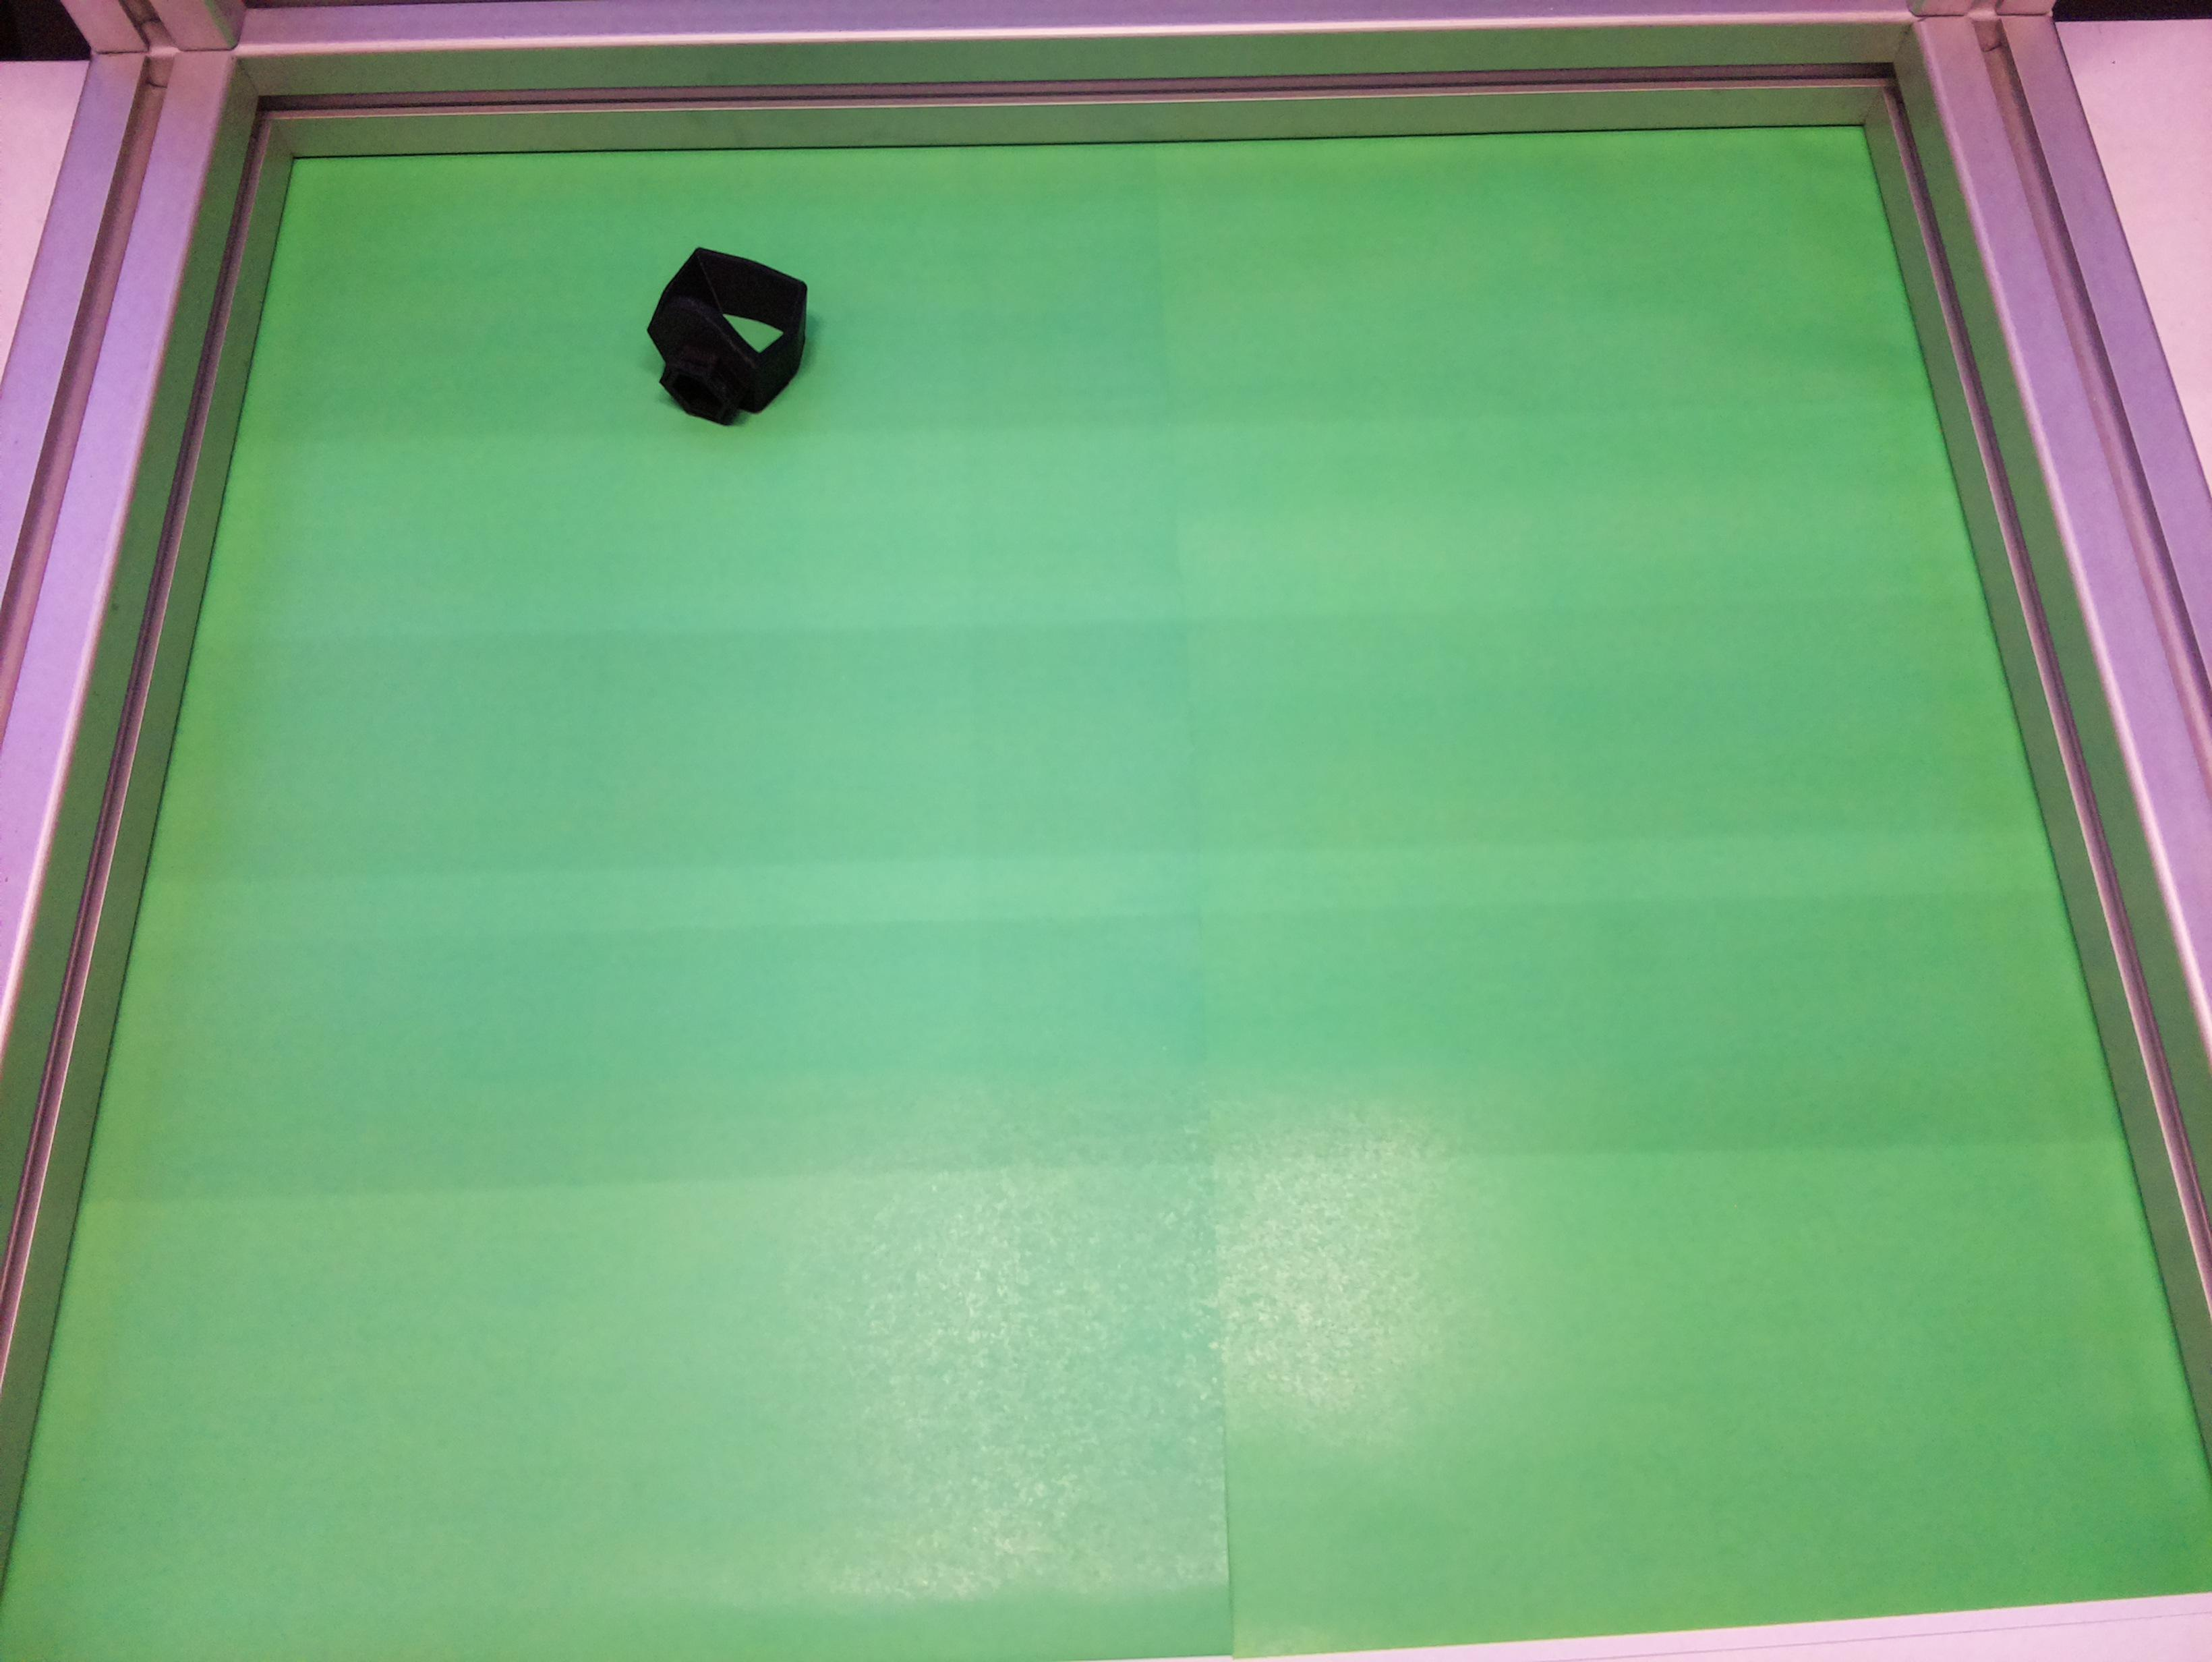scissor_holder: (620, 234, 847, 459)
